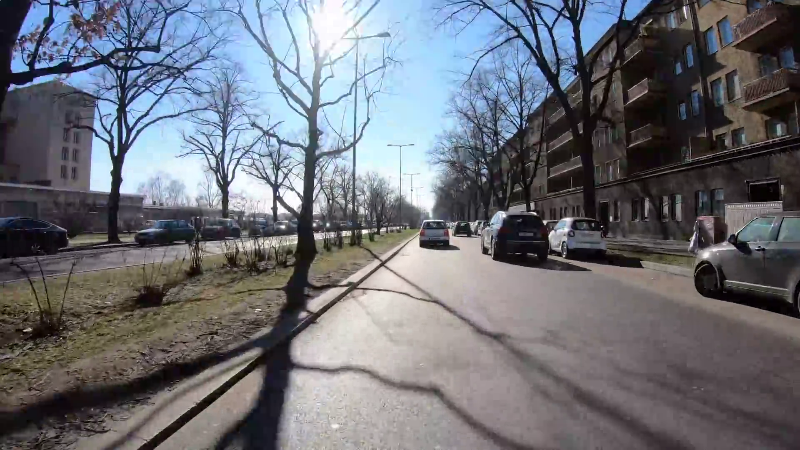Plate: (516, 230, 536, 238)
